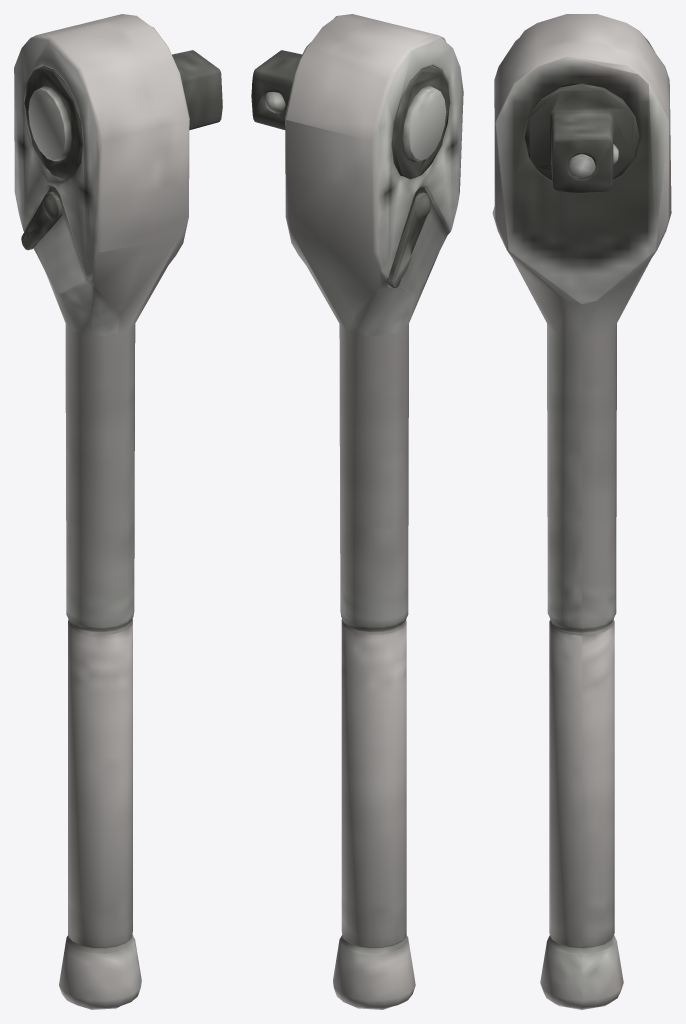
3 renders of one model, left to right at view 1: azimuth 30°, elevation 25°; view 2: azimuth 150°, elevation 25°; view 3: azimuth 270°, elevation 25°, orthographic.
Parts seen in each view (by area): view 1: ratchet_wrench; view 2: ratchet_wrench; view 3: ratchet_wrench.
Boxes of the visible parts, bbox=[...] form: ratchet_wrench: bbox=[14, 14, 222, 1009]; ratchet_wrench: bbox=[251, 14, 463, 1009]; ratchet_wrench: bbox=[492, 14, 671, 1009].
Bounding box in the file's own units: 0.044 × 0.2443 × 0.0412.
Materials: 1 (1 with a texture image).
